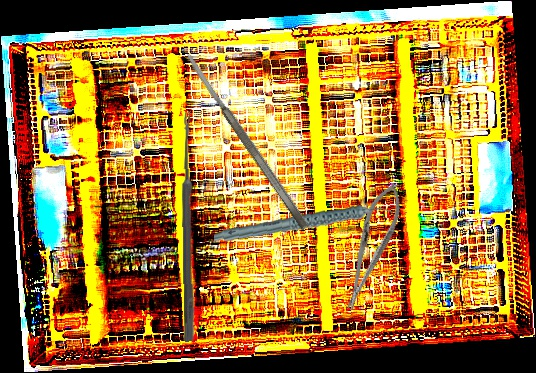Handpiece: (213, 194, 394, 256)
Needle Holder: (333, 178, 410, 315)
Spatula Surgical: (183, 50, 311, 232)
Surgical Spoon: (180, 111, 196, 342)
